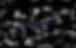eight: (42, 19, 46, 27), (52, 18, 56, 26)
four: (32, 20, 36, 28), (47, 19, 51, 27)
nine: (22, 21, 26, 28)
six: (17, 21, 21, 29), (27, 20, 31, 28), (37, 20, 41, 27)
